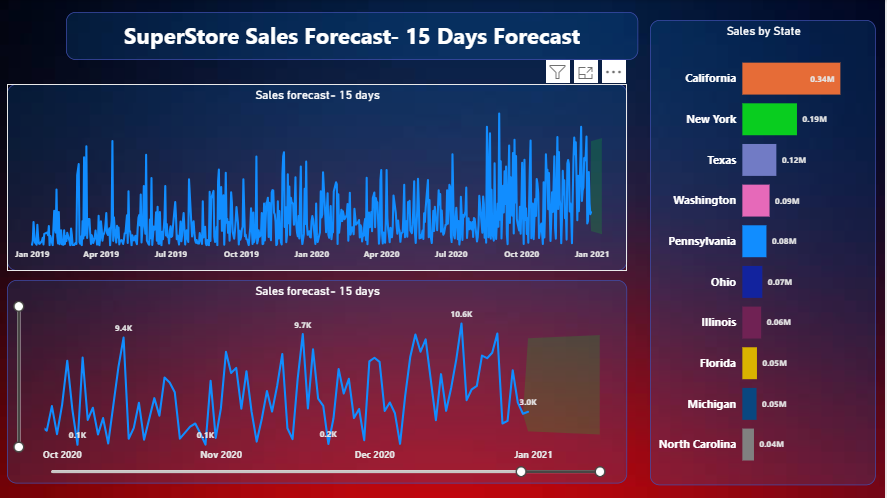

The page's visual inventory and layout, read from the dashboard file:
{"tool":"powerbi","page":{"name":"Page 2","canvas":[1280,720],"ordinal":1},"visuals":[{"type":"lineChart","title":"Sales forecast- 15 days","fields":{"Y":["Sum(SuperStore_Sales_Dataset.Sales)"],"Category":["SuperStore_Sales_Dataset.Order Date"]},"box":[14.9,120.9,892.5,268.7],"z":0},{"type":"lineChart","title":"Sales forecast- 15 days","fields":{"Y":["Sum(SuperStore_Sales_Dataset.Sales)"],"Category":["SuperStore_Sales_Dataset.Order Date"]},"box":[14.9,403,892.5,292.5],"z":1},{"type":"clusteredBarChart","title":" Sales by State","fields":{"Category":["SuperStore_Sales_Dataset.State"],"Y":["Sum(SuperStore_Sales_Dataset.Sales)"]},"box":[940.3,28.8,325.4,669.6],"z":2},{"type":"textbox","box":[100,17.9,823.9,68.7],"z":3}]}

Visuals, with their boxes in screenshot pixels (x1, y1, x2, y2), scaled from the page's 1280x720 canvas onto the 887x498 screenshot:
"Sales forecast- 15 days" lineChart: x1=10 y1=84 x2=629 y2=269
"Sales forecast- 15 days" lineChart: x1=10 y1=279 x2=629 y2=481
" Sales by State" clusteredBarChart: x1=652 y1=20 x2=877 y2=483
textbox: x1=69 y1=12 x2=640 y2=60
